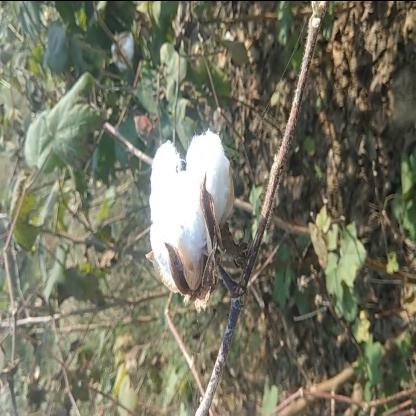cotton_ready: (128, 144, 256, 318)
